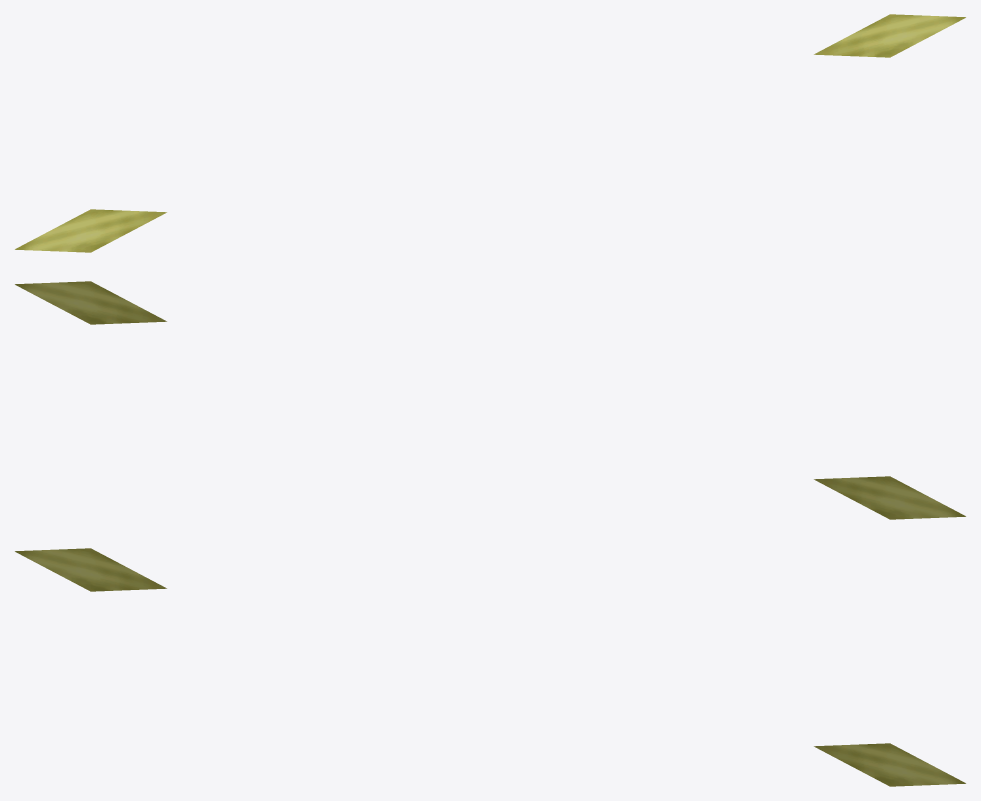
Rendered from ywing_booster_s02_on_l2.fbx.
3 views of the same model, one above another, from view 1: azimuth 30°, elevation 25°; view 2: azimuth 150°, elevation 25°; view 3: azimuth 330°, elevation 25° (orthographic).
Parts seen in each view (by area): view 1: mesh_node; view 2: mesh_node; view 3: mesh_node.
Boxes of the visible parts, left/top/right/bottom form: mesh_node: left=15, top=14, right=965, bottom=252; mesh_node: left=15, top=281, right=965, bottom=519; mesh_node: left=15, top=548, right=965, bottom=786.
Bounding box in the file's own units: 6.2 × 0.27 × 0.
Materials: 1 (1 with a texture image).
